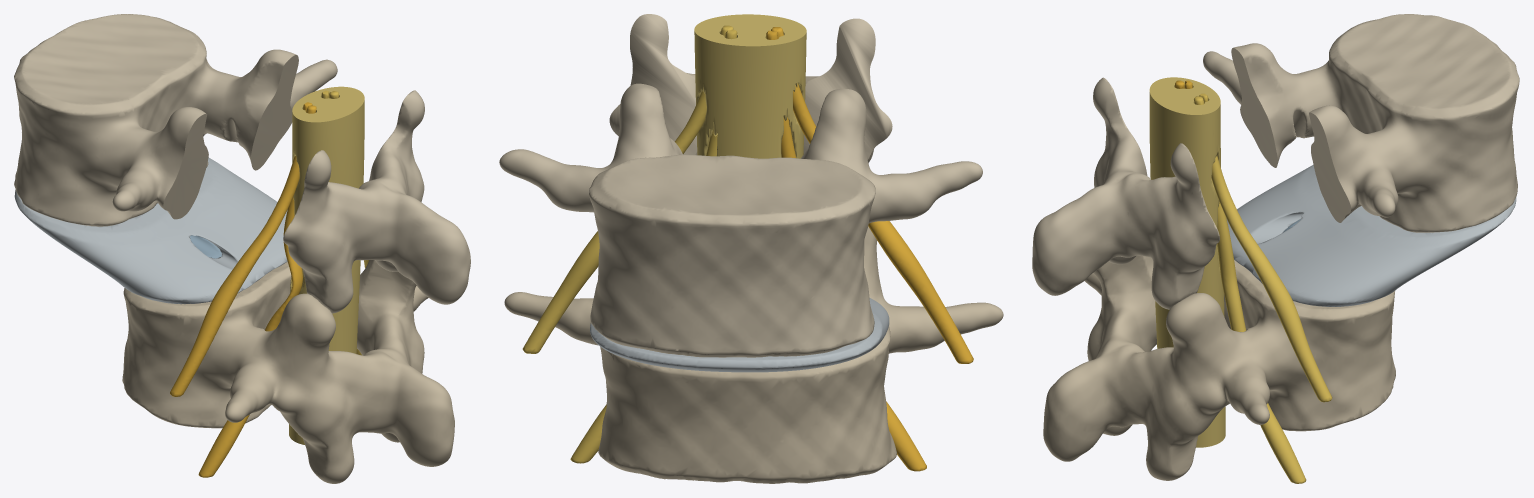
Rendered from spine_listhesis_4.glb.
3 renders of one model, left to right at view 1: azimuth 30°, elevation 25°; view 2: azimuth 150°, elevation 25°; view 3: azimuth 270°, elevation 25°, orthographic. The views are drawn at different scales.
Visible parts, largest first — view 1: l4_vertebra, l5_vertebra, l4_posterior_arch, annulus_fibrosus, thecal_sac, l4_nerve_root_left, l5_nerve_root_left; view 2: l4_vertebra, l5_vertebra, thecal_sac, l4_posterior_arch, annulus_fibrosus, nerve_roots, l4_nerve_root_left, l5_nerve_root_left; view 3: l4_vertebra, l5_vertebra, l4_posterior_arch, annulus_fibrosus, thecal_sac, nerve_roots.
Part boxes in pixels (bbox=[...]): l4_vertebra: bbox=[14, 14, 337, 226]; l5_vertebra: bbox=[122, 260, 454, 483]; l4_posterior_arch: bbox=[283, 90, 470, 313]; annulus_fibrosus: bbox=[14, 157, 287, 304]; thecal_sac: bbox=[289, 86, 364, 444]; l4_nerve_root_left: bbox=[170, 105, 316, 396]; l5_nerve_root_left: bbox=[198, 102, 312, 477]; l4_vertebra: bbox=[499, 83, 982, 357]; l5_vertebra: bbox=[504, 226, 1003, 483]; thecal_sac: bbox=[694, 14, 806, 158]; l4_posterior_arch: bbox=[609, 14, 892, 162]; annulus_fibrosus: bbox=[590, 298, 889, 372]; nerve_roots: bbox=[522, 25, 737, 463]; l4_nerve_root_left: bbox=[771, 27, 973, 363]; l5_nerve_root_left: bbox=[766, 30, 926, 471]; l4_vertebra: bbox=[1203, 14, 1519, 232]; l5_vertebra: bbox=[1043, 255, 1395, 480]; l4_posterior_arch: bbox=[1032, 77, 1219, 309]; annulus_fibrosus: bbox=[1226, 164, 1516, 306]; thecal_sac: bbox=[1149, 77, 1225, 447]; nerve_roots: bbox=[1194, 93, 1332, 483].
Bounding box in the file's own units: 8.72 × 7.92 × 9.79.
